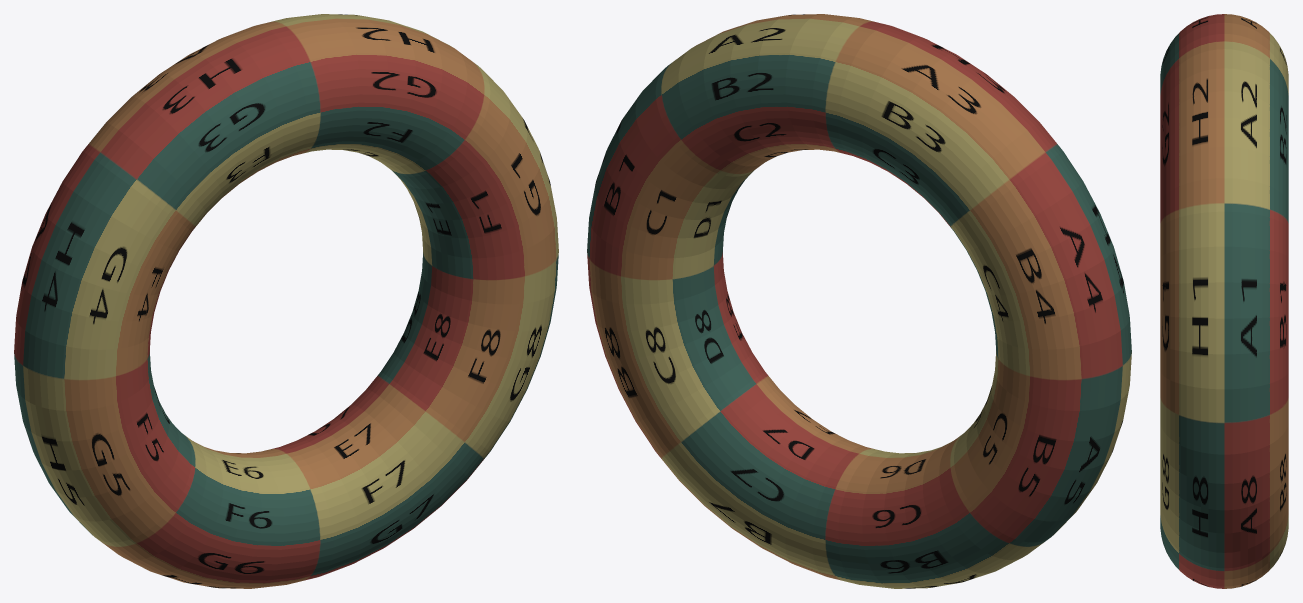
File: texture_torus_R1_r4.glb
The picture shows the model from 3 angles, left to right: view 1: azimuth 30°, elevation 25°; view 2: azimuth 150°, elevation 25°; view 3: azimuth 270°, elevation 25°; orthographic projection. The views are drawn at different scales.
Visible parts, largest first — view 1: world; view 2: world; view 3: world.
Part boxes in pixels (<box>): world: <box>14,14,558,588</box>; world: <box>587,14,1131,588</box>; world: <box>1160,14,1288,588</box>.
Bounding box in the file's own units: 13.73 × 13.71 × 3.06.
Materials: 1 (1 with a texture image).
